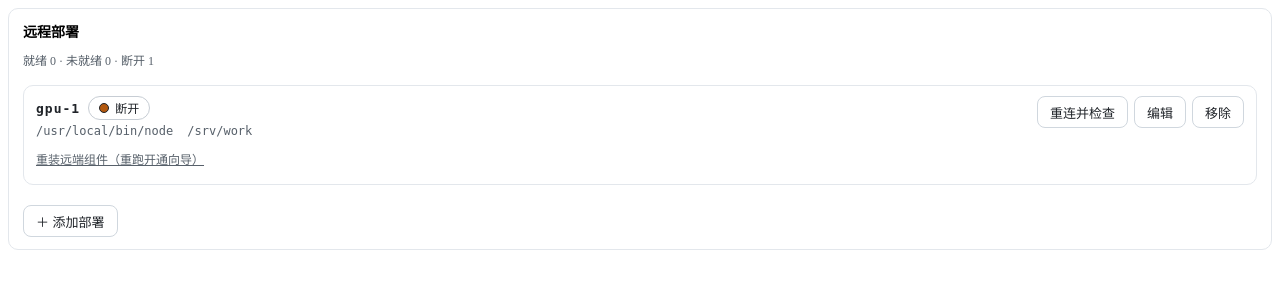
Test: 断开重连反馈闭环 + 重装入口 › RPC 失败 → 行内 alert 呈现错误信封（不再静默吞掉）
Click the button with test id "deploy-reconnect" at (1082,112), box left=1037, top=96, right=1128, bottom=128
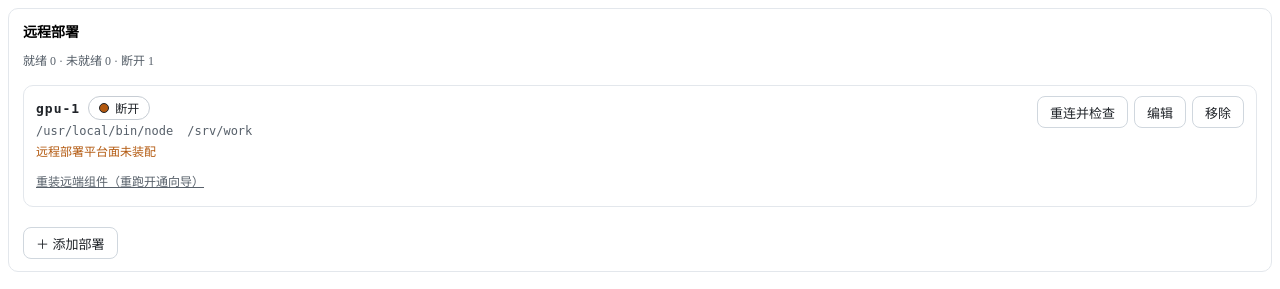
expect the text "断开" is shown: met, box left=88, top=96, right=150, bottom=120
expect the message with test id "deploy-recheck-error" shows "平台面未装配": met, box left=36, top=145, right=156, bottom=159
